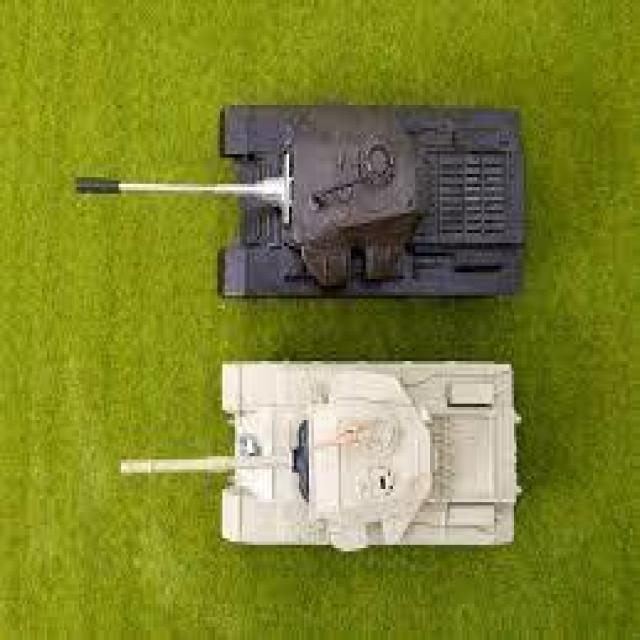MIL_MBT: (52, 85, 544, 335), (101, 345, 526, 565)
